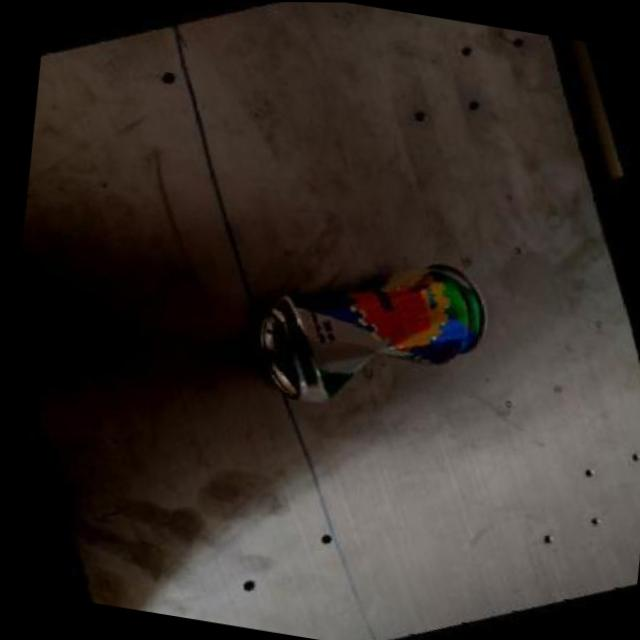metal: (259, 264, 485, 401)
